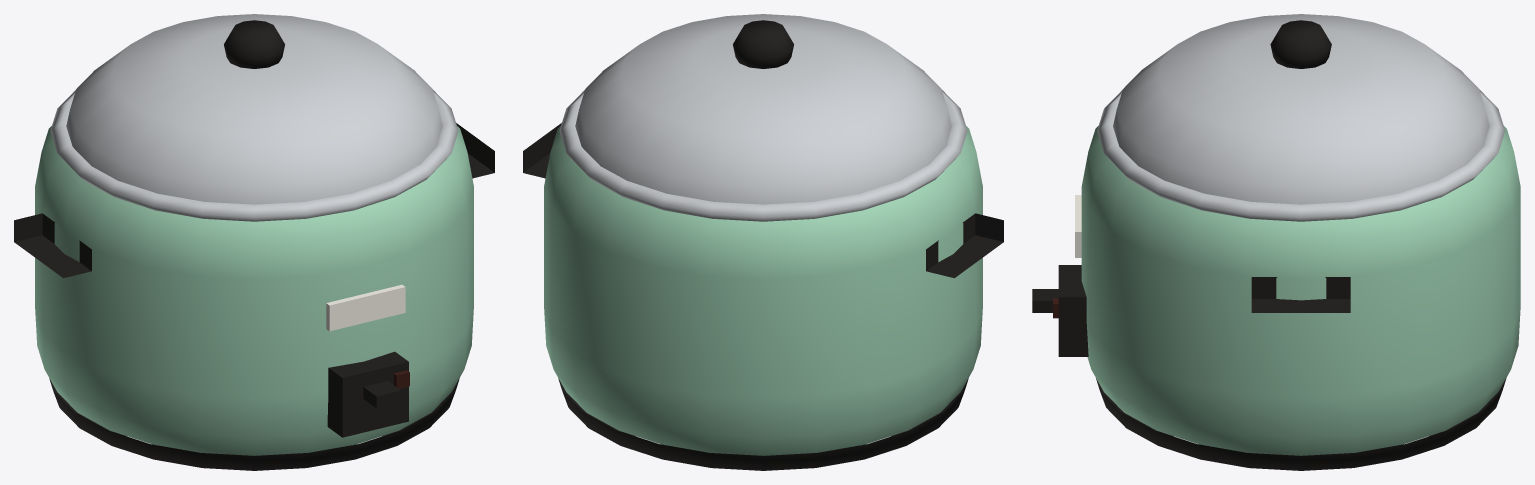
Rendered from denkinabe.glb.
3 renders of one model, left to right at view 1: azimuth 30°, elevation 25°; view 2: azimuth 150°, elevation 25°; view 3: azimuth 270°, elevation 25°, orthographic.
Visible parts, largest first — view 1: DenkiBody, DenkiLid, DenkiRim, DenkiFoot, DenkiSwitchBox, DenkiHandle-1, DenkiKnob, DenkiBadge, DenkiHandle1, DenkiLever; view 2: DenkiBody, DenkiLid, DenkiRim, DenkiFoot, DenkiHandle-1, DenkiKnob, DenkiHandle1; view 3: DenkiBody, DenkiLid, DenkiRim, DenkiFoot, DenkiSwitchBox, DenkiHandle1, DenkiKnob, DenkiLever.
Boxes of the visible parts, x1,y1,x2,y2 form: DenkiBody: [35, 126, 473, 455]; DenkiLid: [66, 14, 442, 204]; DenkiRim: [50, 90, 458, 221]; DenkiFoot: [49, 378, 459, 470]; DenkiSwitchBox: [327, 351, 408, 437]; DenkiHandle-1: [14, 213, 91, 278]; DenkiKnob: [224, 20, 284, 68]; DenkiBadge: [326, 284, 405, 331]; DenkiHandle1: [456, 123, 494, 178]; DenkiLever: [363, 381, 401, 408]; DenkiBody: [544, 126, 982, 455]; DenkiLid: [575, 14, 951, 204]; DenkiRim: [559, 90, 967, 221]; DenkiFoot: [558, 378, 968, 470]; DenkiHandle-1: [926, 213, 1003, 278]; DenkiKnob: [733, 20, 793, 68]; DenkiHandle1: [523, 123, 561, 178]; DenkiBody: [1081, 126, 1520, 455]; DenkiLid: [1113, 14, 1489, 204]; DenkiRim: [1097, 89, 1505, 221]; DenkiFoot: [1096, 378, 1506, 470]; DenkiSwitchBox: [1058, 265, 1088, 356]; DenkiHandle1: [1251, 277, 1350, 312]; DenkiKnob: [1270, 20, 1331, 68]; DenkiLever: [1032, 289, 1058, 312].
Size of the model in its own units: 0.454 by 0.358 by 0.445.
